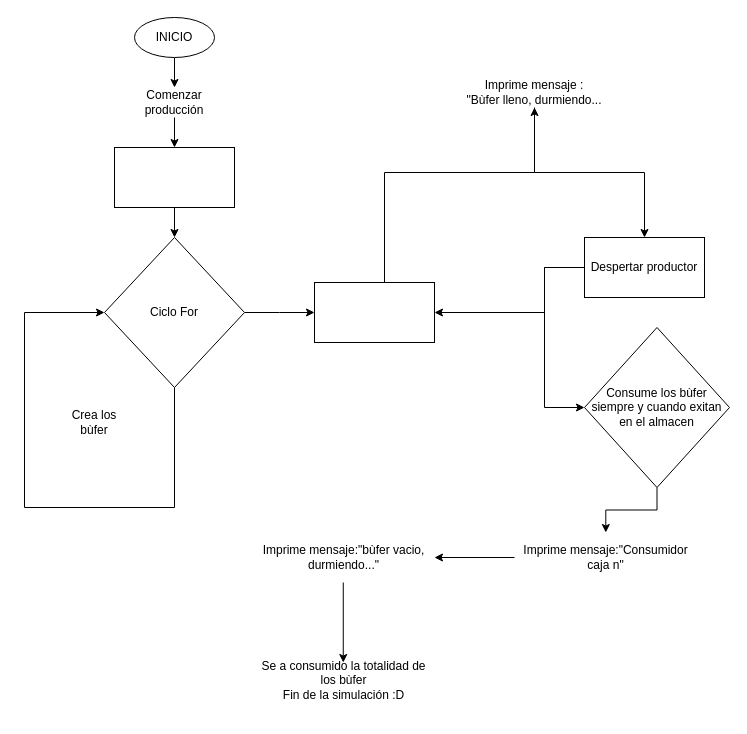
This 747x734 diagram has some shape labels left out. Here are the shapes that lost their labels. From the top down, the centre of each, then its label:
point 174,177: Genera numero de bùfer pedidos
point 374,312: Almacena los bùfer generados
